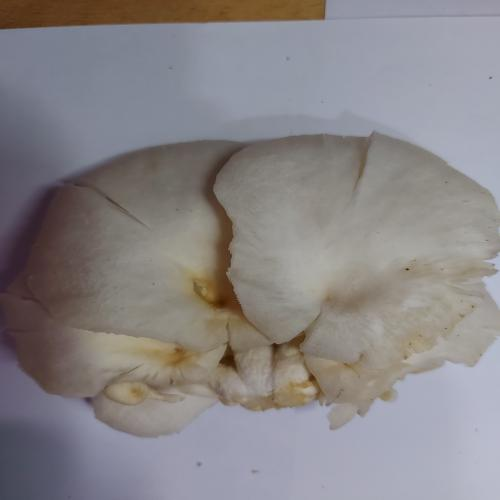Oyster Mushroom: (2, 130, 498, 437)
